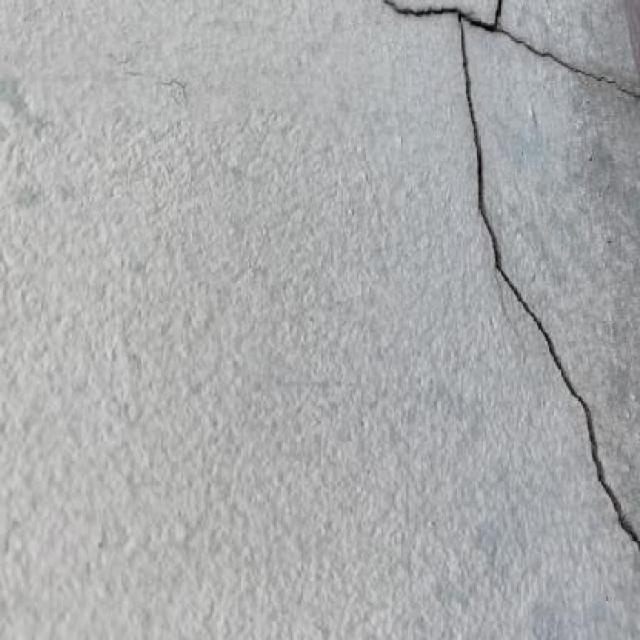GRIETA: (458, 16, 639, 553), (384, 0, 639, 99), (494, 0, 502, 23)
